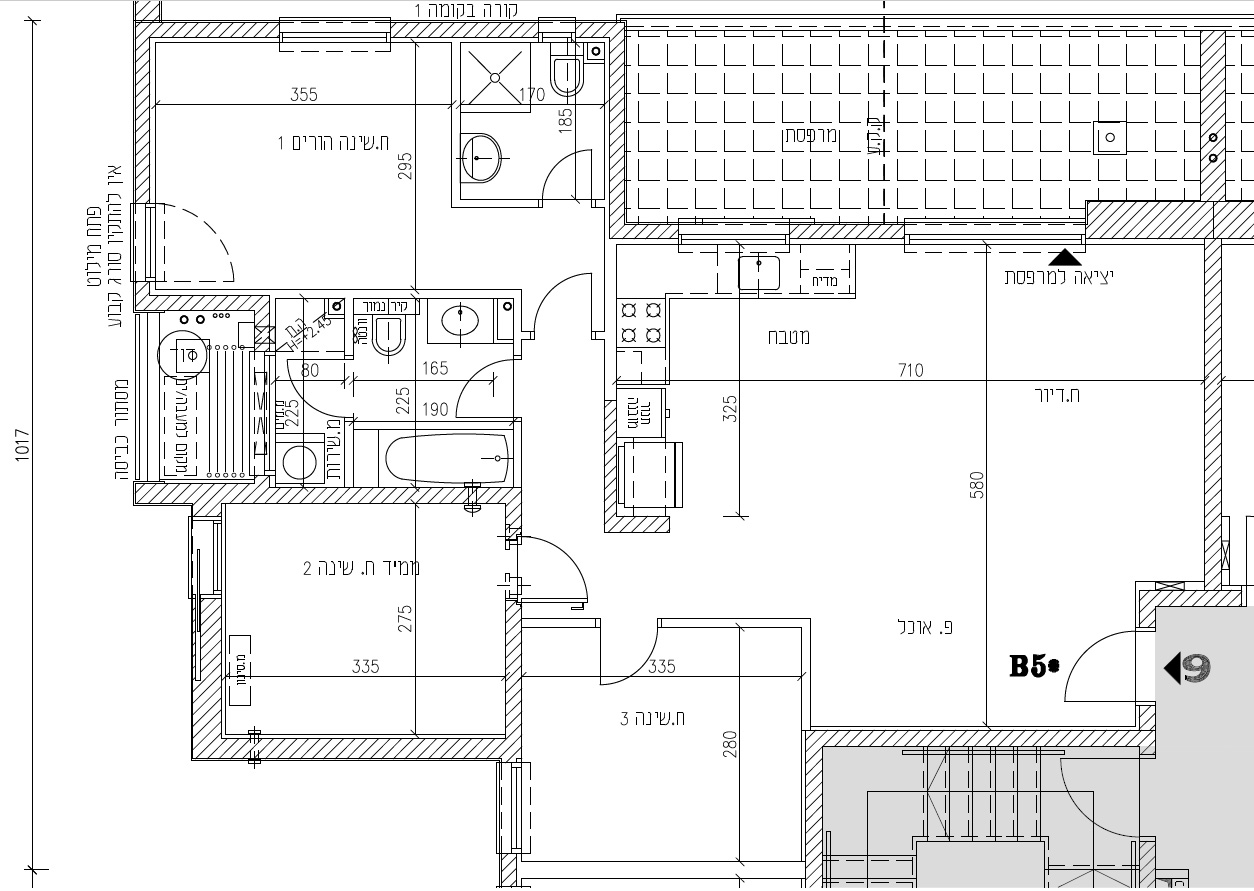door: (168, 197, 243, 290), (526, 526, 598, 610), (583, 634, 664, 692), (531, 267, 599, 324), (538, 146, 600, 193)
wall: (1205, 240, 1221, 587), (812, 730, 1136, 747), (269, 738, 505, 757), (1088, 204, 1213, 236), (238, 487, 413, 502), (134, 22, 149, 195), (507, 607, 520, 755)
window: (904, 217, 1086, 251), (278, 11, 391, 61), (492, 761, 531, 855), (678, 219, 790, 251)
